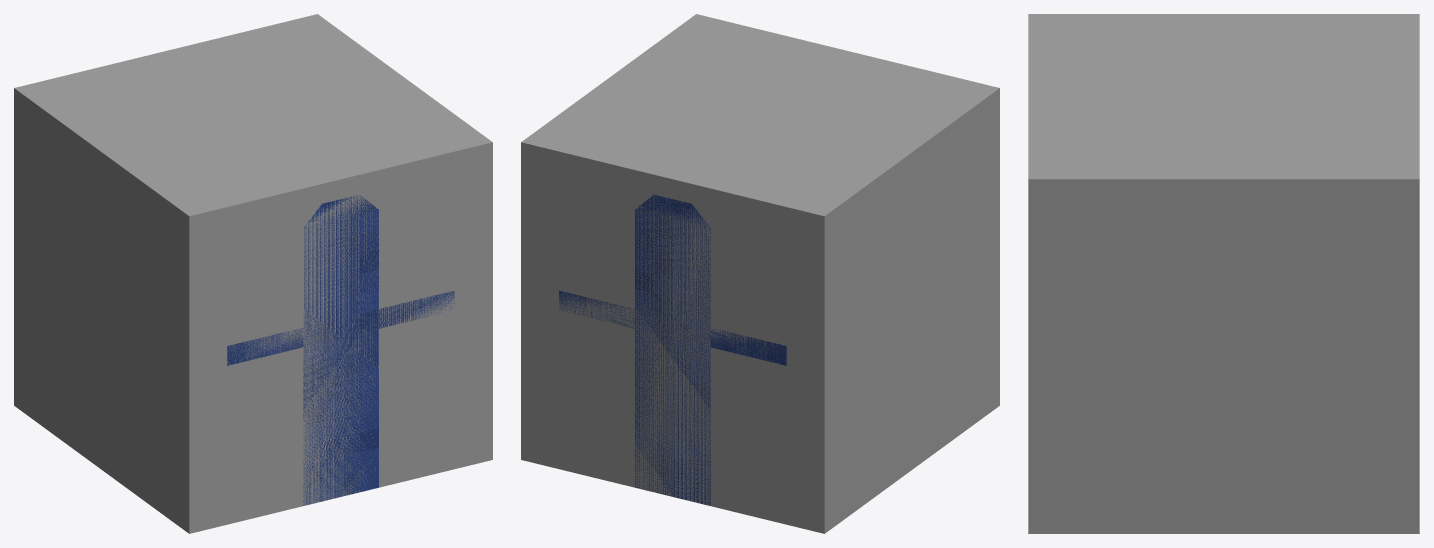
The model's file is compressorb.obj.
The picture shows the model from 3 angles, left to right: view 1: azimuth 30°, elevation 25°; view 2: azimuth 150°, elevation 25°; view 3: azimuth 270°, elevation 25°; orthographic projection. The views are drawn at different scales.
Visible parts, largest first — view 1: Minecraft_Block_Cube, main; view 2: Minecraft_Block_Cube, main; view 3: Minecraft_Block_Cube.
Part boxes in pixels (x1,y1,x2,y2): Minecraft_Block_Cube: [14, 14, 492, 533]; main: [227, 195, 454, 505]; Minecraft_Block_Cube: [521, 14, 999, 533]; main: [559, 195, 786, 505]; Minecraft_Block_Cube: [1028, 14, 1419, 533].
Size of the model in its own units: 1 by 1 by 1.
Materials: 2 (1 with a texture image).
